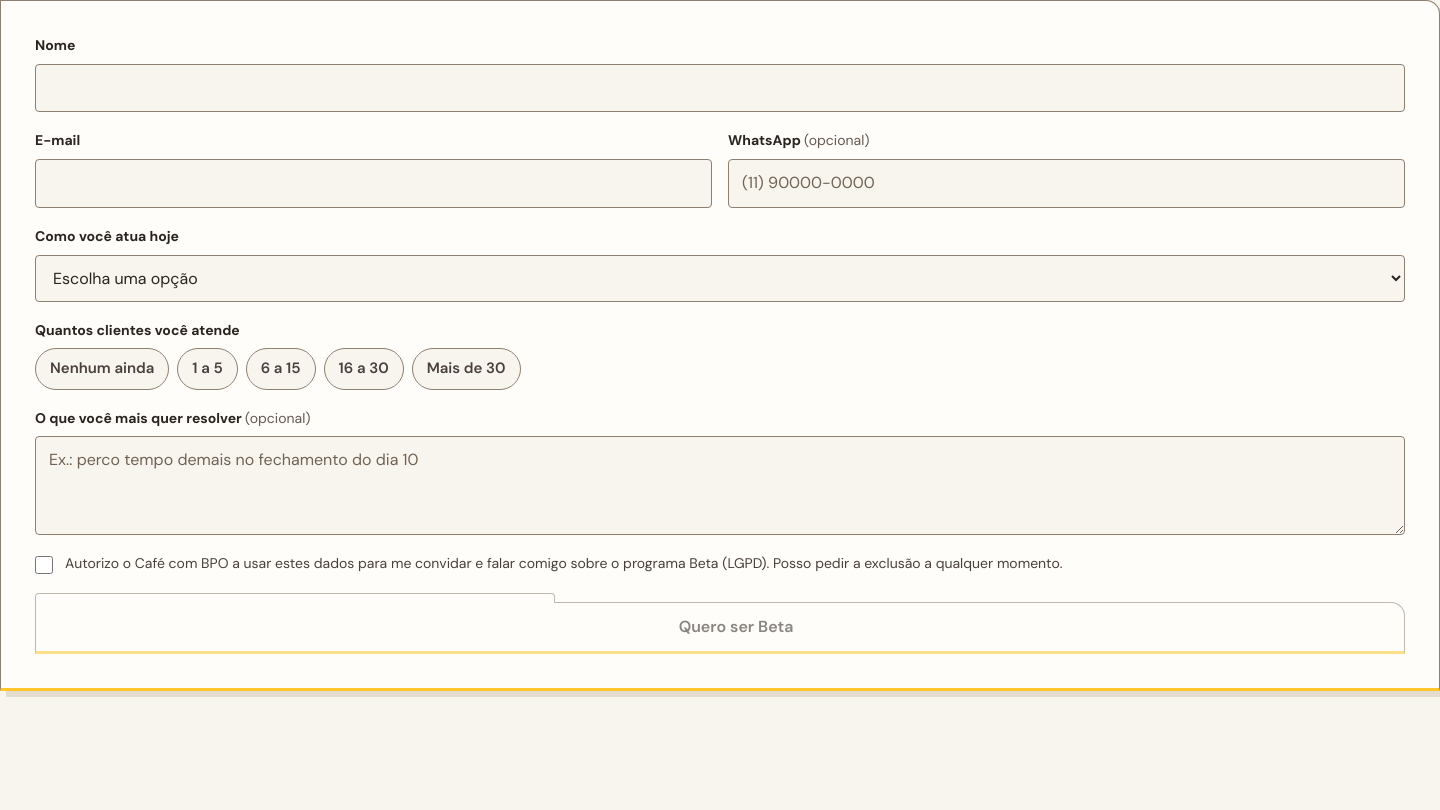
BetaSignupForm › only enables sending after LGPD consent
In the field labelled "Nome": (720, 88) [35, 64, 1405, 112], type "Ana Operadora"
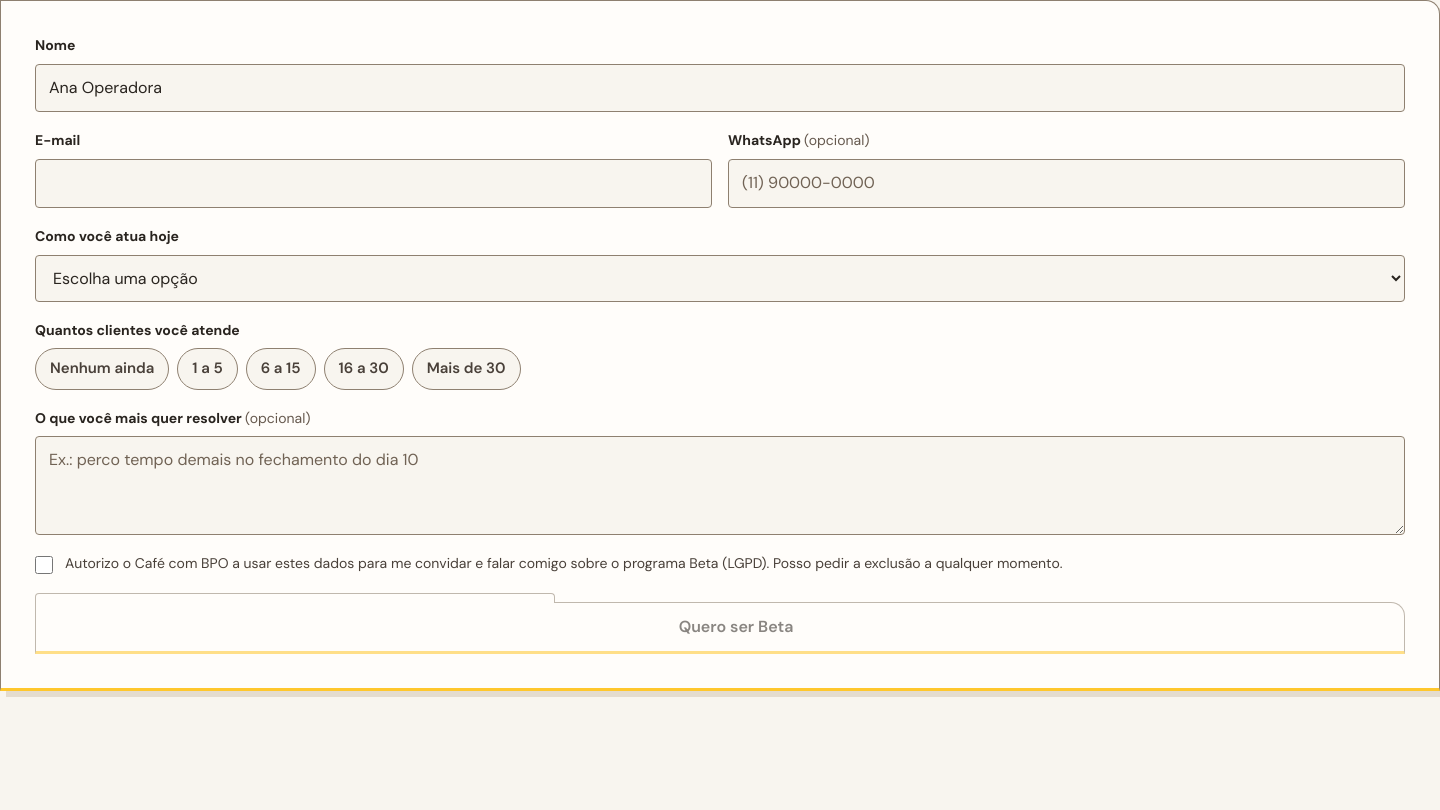
In the field labelled "E-mail": (374, 184) [35, 159, 712, 208], type "ana@cafe.com"
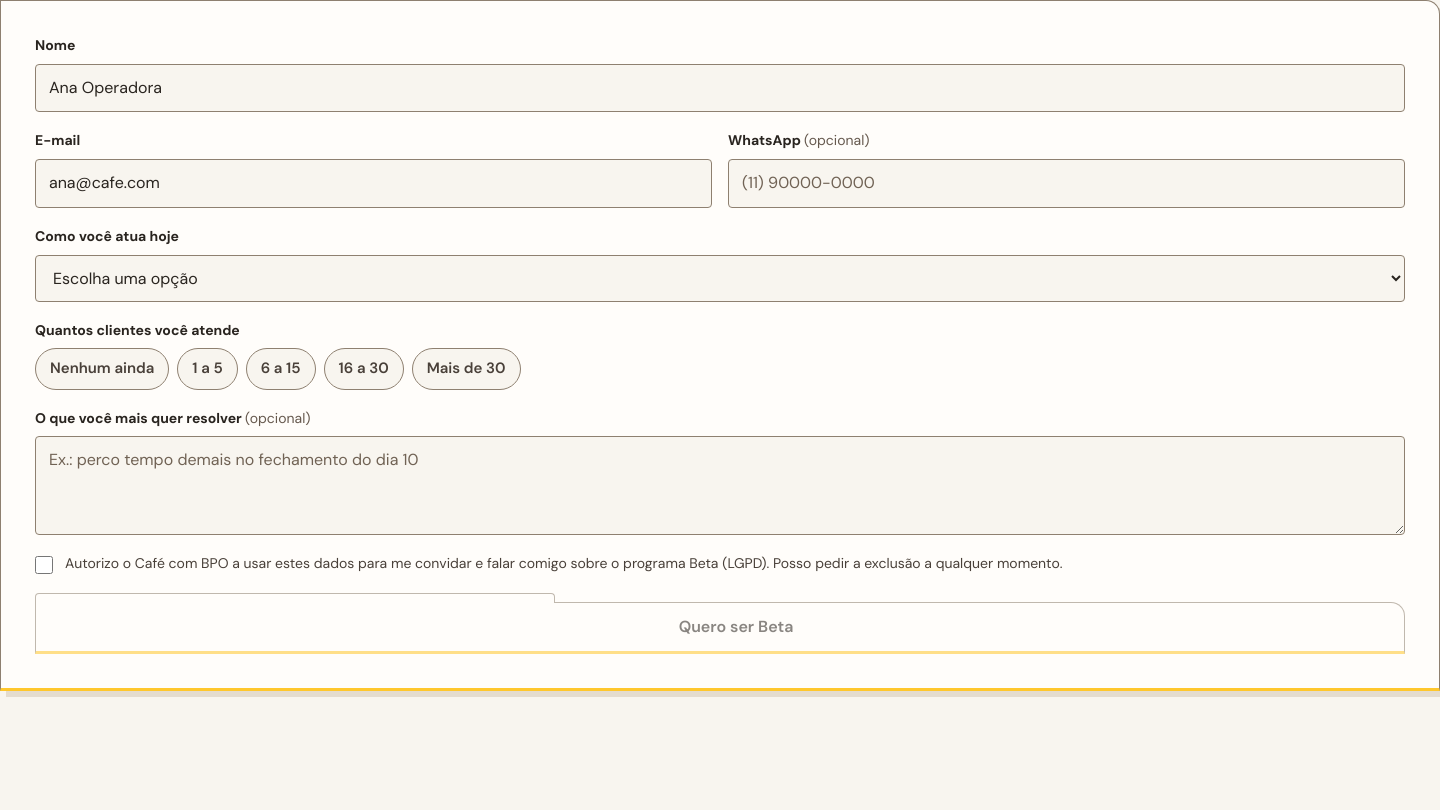
In the field labelled "WhatsApp (opcional)": (1066, 184) [728, 159, 1405, 208], type "(11) 98765-4321"
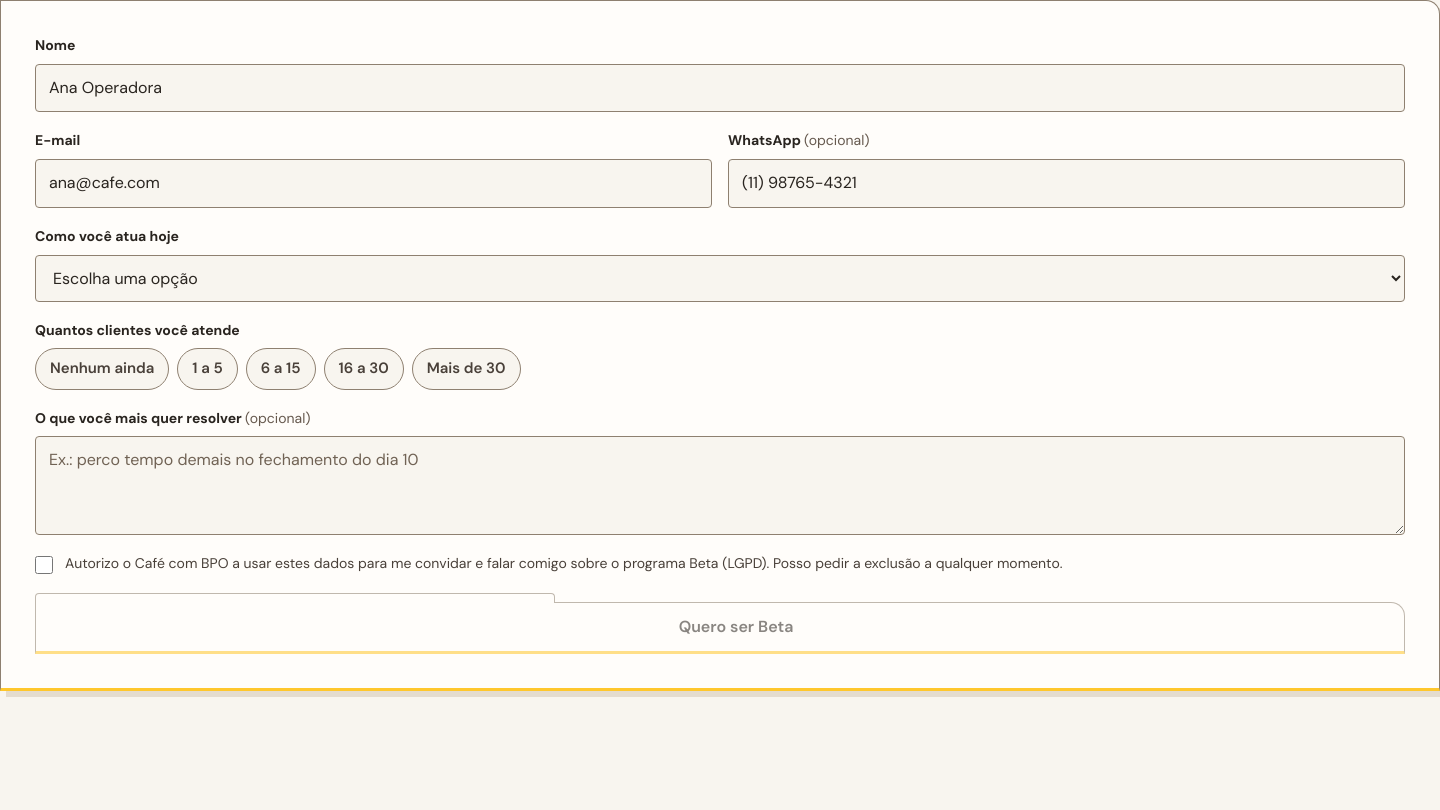
Select "Já tenho clientes e estou crescendo" in the dropdown labelled "Como você atua hoje": (720, 278) [35, 255, 1405, 302]
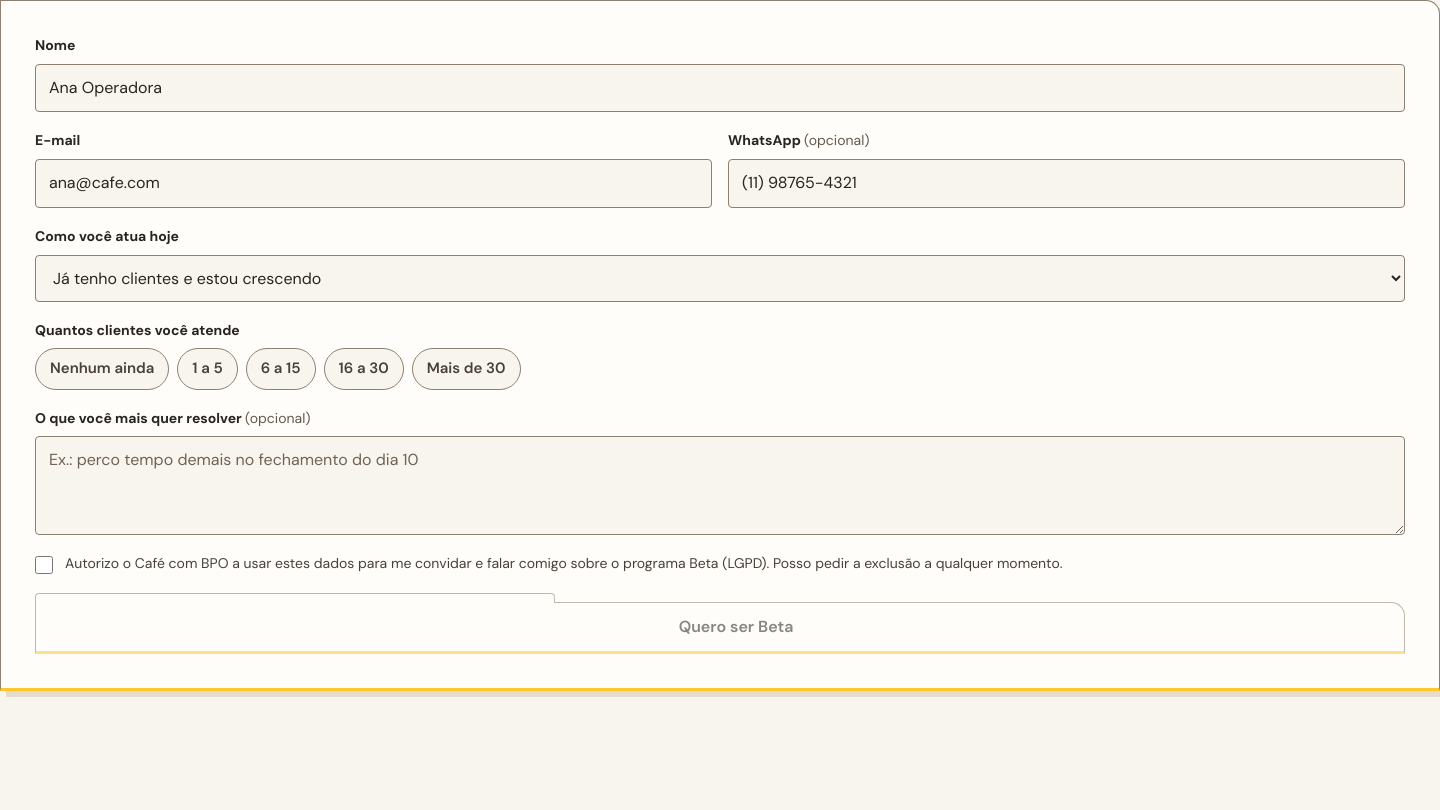
Click the radio button labelled "6 a 15": (281, 369) [246, 348, 316, 390]
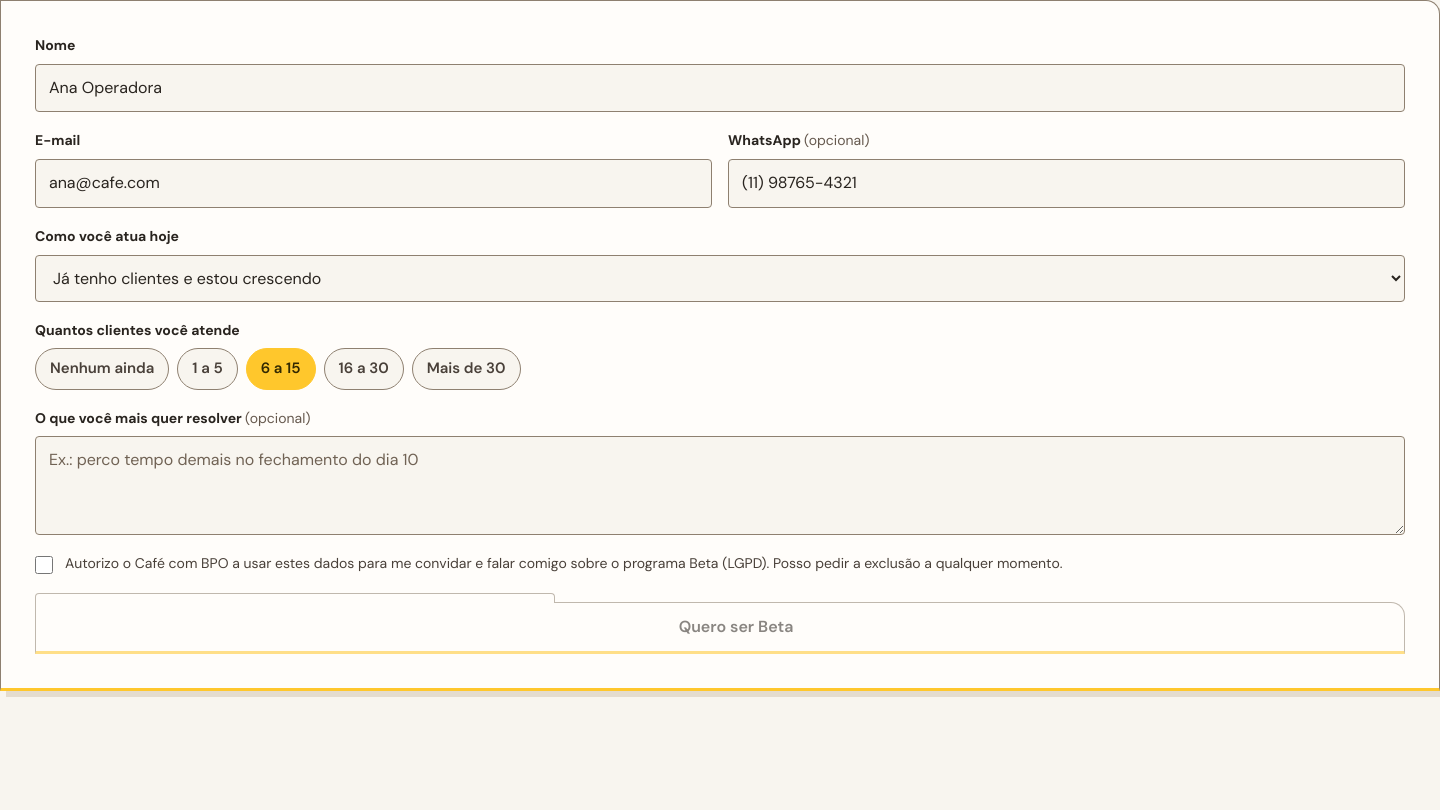
Check: the button "Quero ser Beta" is disabled, box [35, 602, 1405, 654]
Click the checkbox: (44, 565) [35, 556, 53, 574]
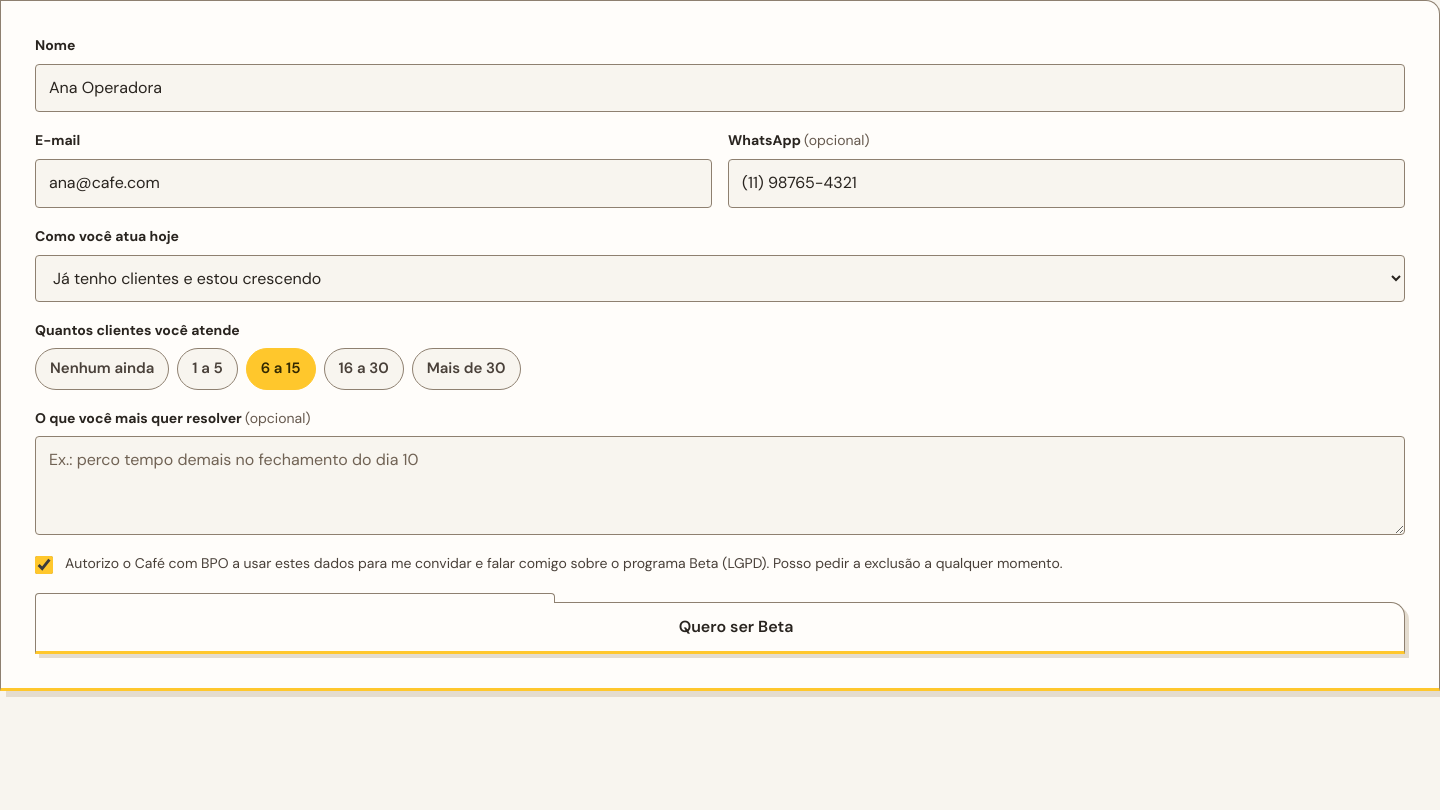
Check: the button "Quero ser Beta" is enabled, box [35, 602, 1405, 654]
